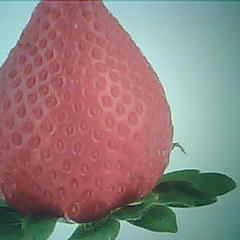straw-ripe: (0, 0, 173, 222)
